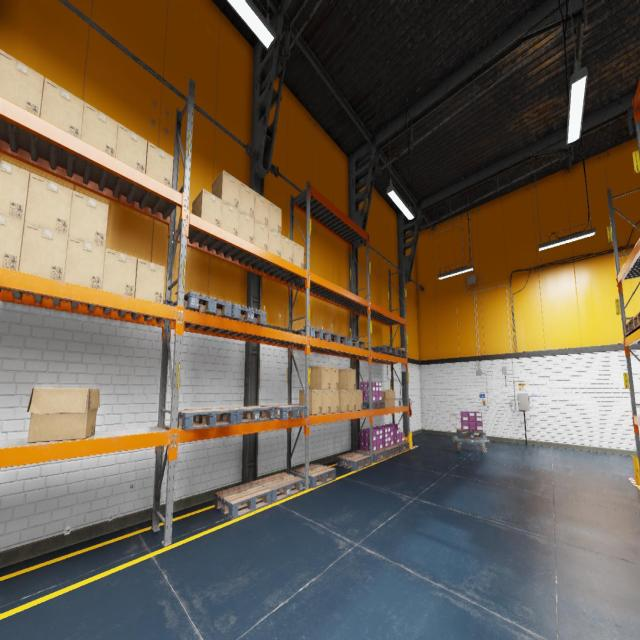box: (27, 387, 99, 443), (0, 49, 44, 117), (25, 172, 72, 235), (19, 222, 68, 281), (40, 77, 84, 139), (68, 190, 109, 247), (64, 236, 105, 290), (81, 102, 118, 157), (0, 160, 30, 222), (102, 248, 137, 297), (116, 123, 148, 173), (134, 258, 165, 304), (0, 214, 24, 271), (146, 142, 173, 187), (192, 188, 222, 227), (212, 170, 240, 209), (221, 200, 239, 236), (299, 389, 322, 415), (239, 181, 255, 218), (238, 210, 254, 243), (254, 192, 269, 226), (310, 366, 330, 389), (254, 219, 268, 251), (269, 201, 281, 234), (268, 227, 281, 257), (338, 369, 356, 389), (281, 235, 293, 263), (293, 241, 304, 269), (380, 390, 396, 407), (339, 390, 349, 412), (322, 390, 331, 414), (331, 366, 338, 389), (331, 390, 338, 413), (349, 390, 356, 411), (356, 390, 363, 410)
pallets: (214, 482, 272, 519), (173, 291, 232, 318), (254, 472, 303, 502), (177, 408, 237, 430), (294, 463, 336, 488), (220, 406, 274, 424), (228, 303, 266, 326), (260, 404, 307, 420), (337, 451, 371, 470), (292, 326, 330, 341), (358, 449, 388, 462), (323, 333, 348, 345), (456, 429, 486, 439), (341, 338, 365, 349), (371, 345, 396, 355), (383, 444, 400, 457), (624, 319, 637, 335), (363, 401, 385, 409), (394, 441, 409, 452), (390, 348, 406, 357), (632, 312, 640, 329)
